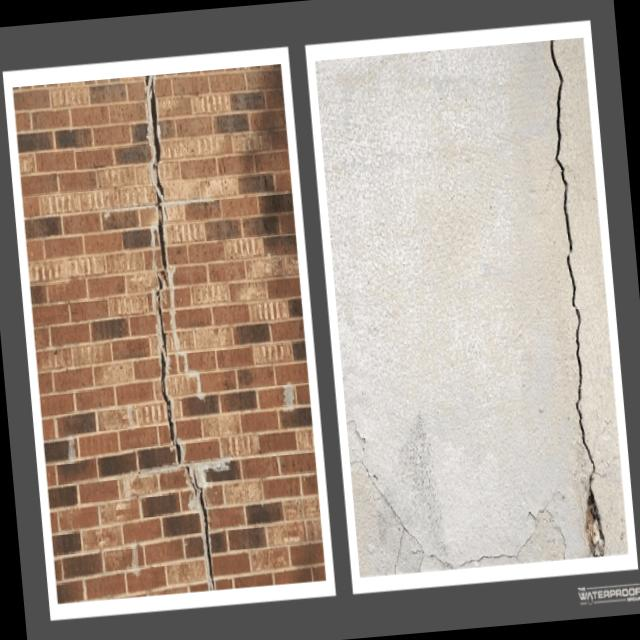crack: (132, 72, 217, 590), (346, 398, 568, 572), (540, 36, 606, 558)
